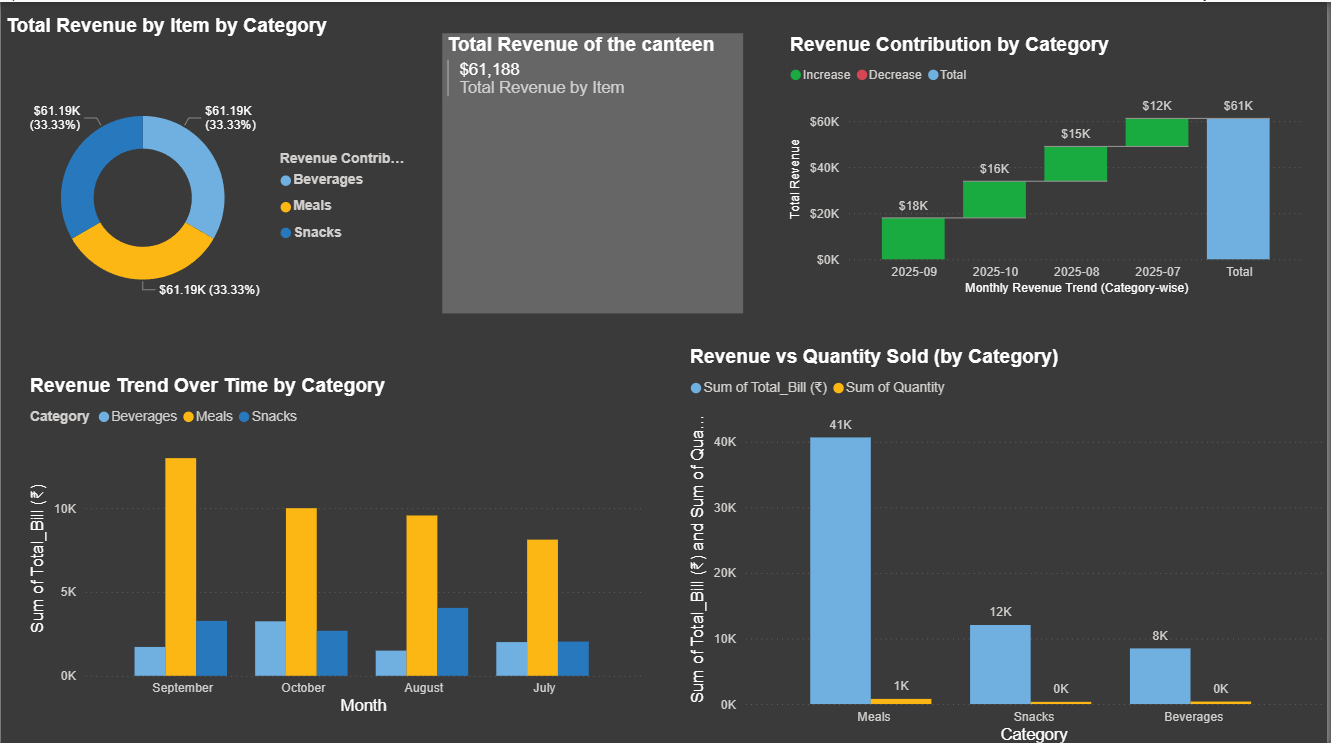

This screenshot's page, from the dashboard's own definition file:
{"tool":"powerbi","page":{"name":"Categorisation","canvas":[1280,720],"ordinal":1},"visuals":[{"type":"donutChart","fields":{"Category":["Customer_Billing.Category"],"Y":["Customer_Billing.Total Revenue by Item"]},"box":[0,11.7,405,333.3],"z":0},{"type":"clusteredColumnChart","title":"Revenue vs Quantity Sold (by Category)","fields":{"Y":["Sum(Customer_Billing.Total_Bill (₹))","Sum(Customer_Billing.Quantity)"],"Category":["Customer_Billing.Category"]},"box":[660,331.7,620,388.3],"z":1000},{"type":"waterfallChart","title":"Revenue Contribution by Category","fields":{"Y":["Customer_Billing.Total Revenue"],"Category":["Customer_Billing.YearMonth"]},"box":[756.4,30.2,506.7,257],"z":2000},{"type":"lineClusteredColumnComboChart","title":"Revenue Trend Over Time by Category","fields":{"Category":["Customer_Billing.Month"],"Y":["Sum(Customer_Billing.Total_Bill (₹))"],"Series":["Customer_Billing.Category"]},"box":[23.3,360,600,333.3],"z":3000},{"type":"multiRowCard","title":"Total Revenue of the canteen","fields":{"Values":["Customer_Billing.Total Revenue by Item"]},"box":[425.9,30.2,290.8,270.2],"z":4000}]}

Visuals, with their boxes in screenshot pixels (x1, y1, x2, y2), scaled from the page's 1280x720 canvas onto the 1331x743 screenshot:
donutChart - Customer_Billing.Category x Customer_Billing.Total Revenue by Item: select_region(0, 12, 421, 356)
"Revenue vs Quantity Sold (by Category)" clusteredColumnChart: select_region(686, 342, 1330, 742)
"Revenue Contribution by Category" waterfallChart: select_region(787, 31, 1313, 296)
"Revenue Trend Over Time by Category" lineClusteredColumnComboChart: select_region(24, 372, 648, 715)
"Total Revenue of the canteen" multiRowCard: select_region(443, 31, 745, 310)
